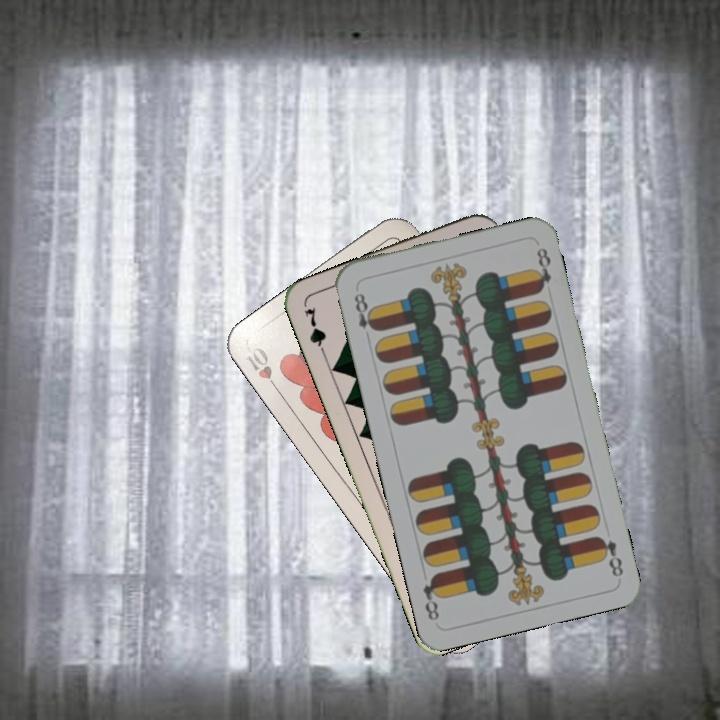E8: (350, 288, 380, 343), (593, 532, 626, 580)
G7: (299, 302, 330, 361)
H10: (241, 343, 284, 397)
